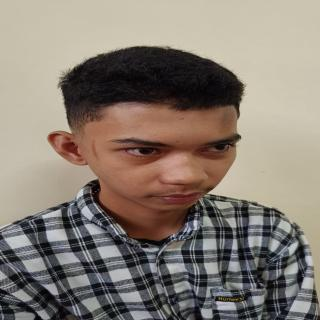Marah: (81, 95, 253, 217)
